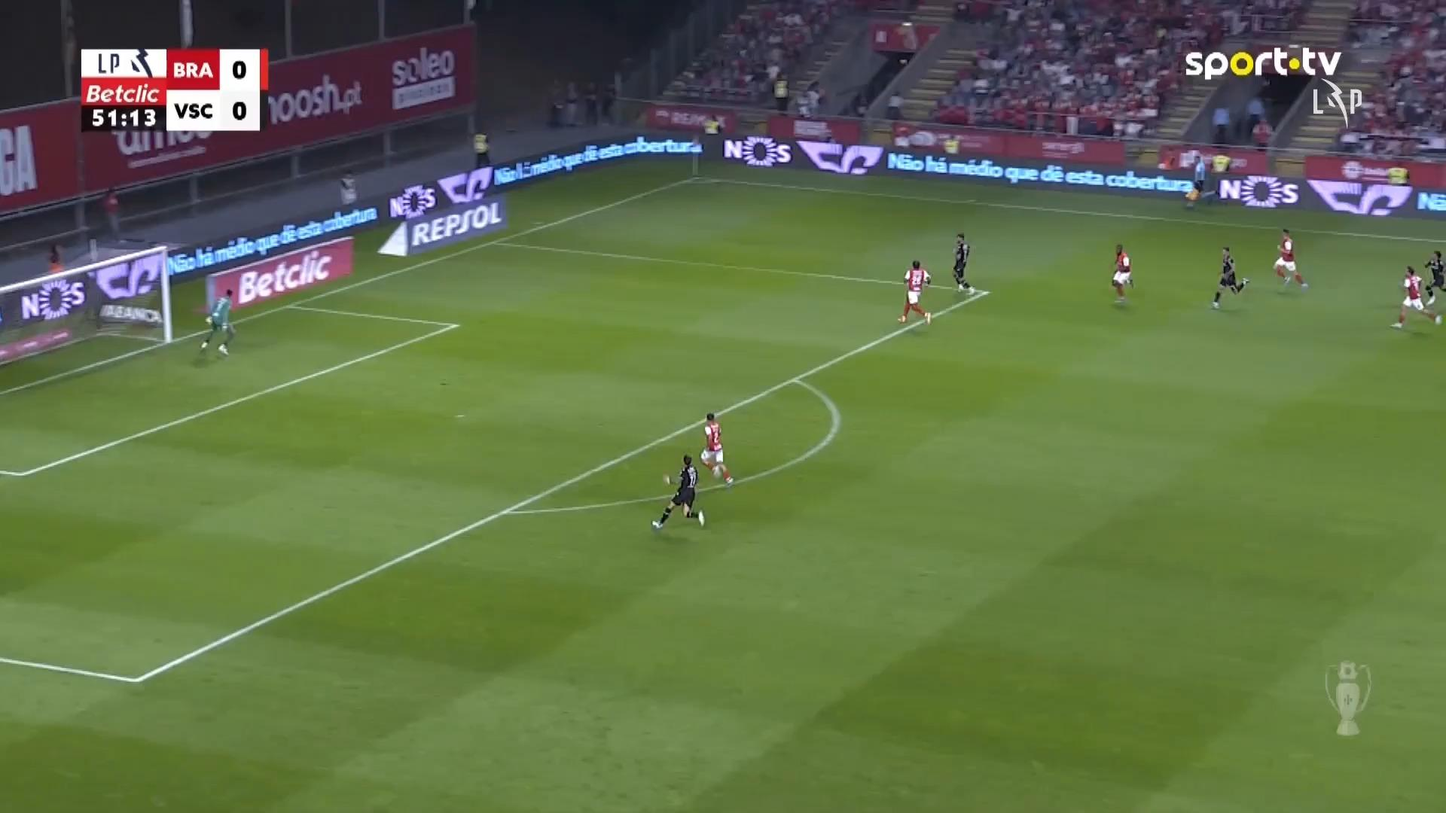goalkeeper: (199, 288, 236, 356)
player: (651, 453, 705, 530), (1390, 264, 1441, 328), (700, 411, 734, 486), (1210, 245, 1249, 309), (897, 259, 932, 324), (1273, 227, 1308, 291), (1111, 242, 1133, 303), (951, 232, 972, 291), (1423, 249, 1444, 306)
referee: (1182, 154, 1206, 210)
